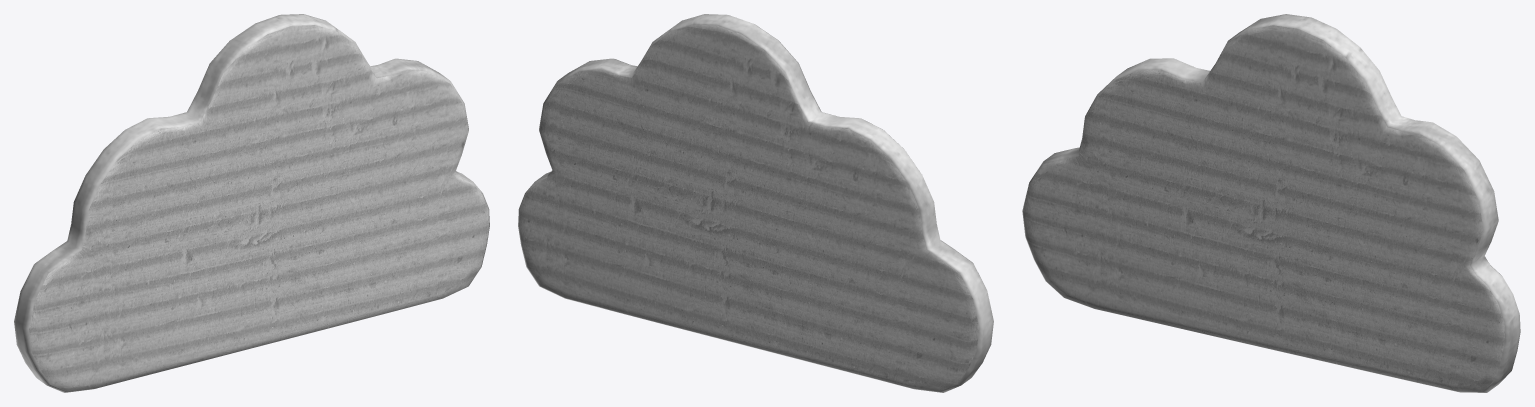
The model's file is nuvola1.fbx.
The picture shows the model from 3 angles, left to right: view 1: azimuth 30°, elevation 25°; view 2: azimuth 150°, elevation 25°; view 3: azimuth 330°, elevation 25°; orthographic projection. The views are drawn at different scales.
Visible parts, largest first — view 1: nuvola; view 2: nuvola; view 3: nuvola.
Part boxes in pixels (x1,y1,x2,y2): nuvola: [14, 14, 489, 392]; nuvola: [518, 14, 993, 392]; nuvola: [1022, 14, 1520, 392].
Size of the model in its own units: 233 by 153 by 12.55.
1 material, 1 textured.
